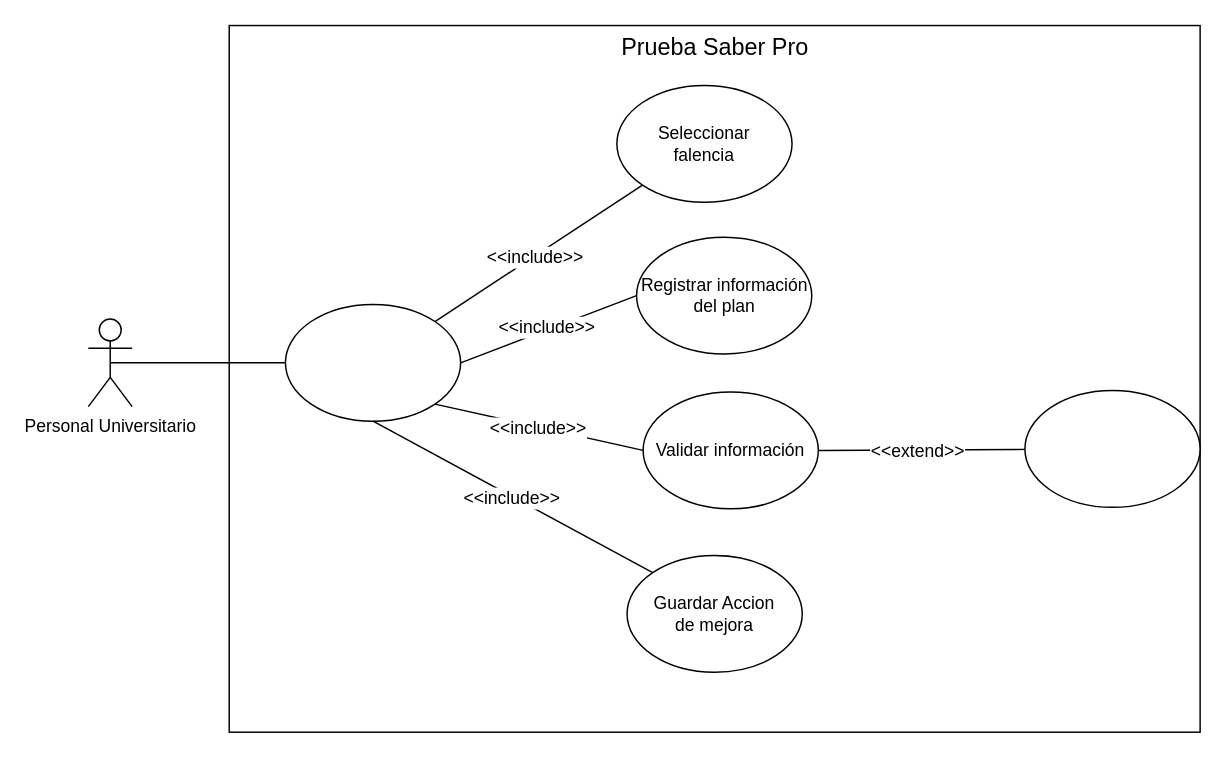
This 1226x758 diagram has some shape labels left out. The shapes that lost their labels are listed below. From the top down, each one's box as (x1, y1, x2, y2) in pixels, then its label:
(284, 303, 461, 421): Crear Acción de mejora
(1023, 389, 1200, 507): Mensaje de error
